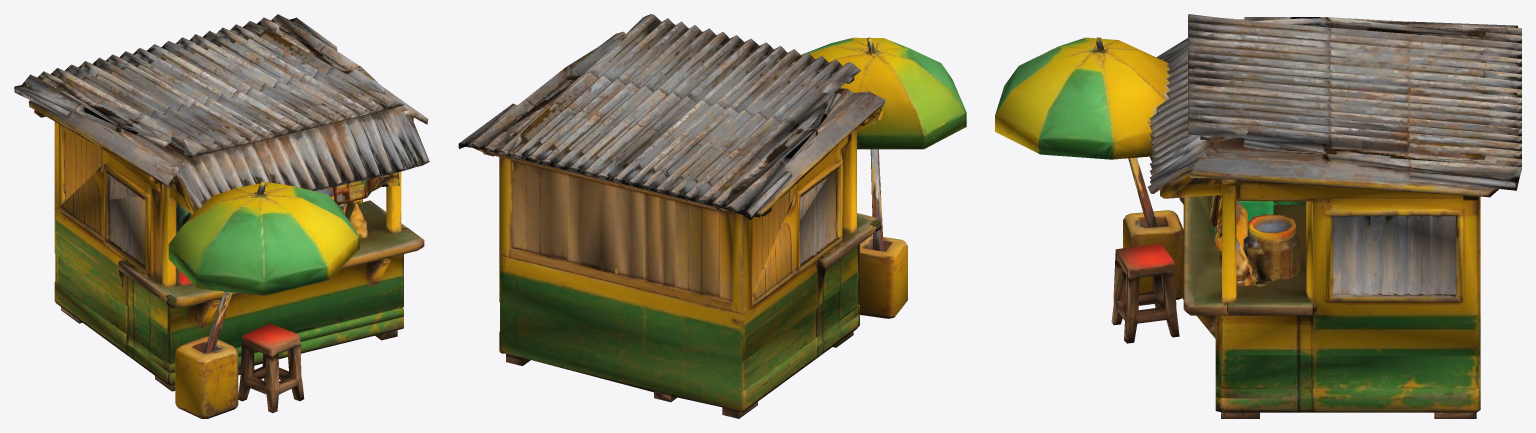
File: kiosk.glb
3 views of the same model, side by side, from view 1: azimuth 30°, elevation 25°; view 2: azimuth 150°, elevation 25°; view 3: azimuth 270°, elevation 25° (orthographic). The views are drawn at different scales.
Visible parts, largest first — view 1: tripo_node_8aa64ed6-d42b-4943-a4ed-41fc386a3ea4; view 2: tripo_node_8aa64ed6-d42b-4943-a4ed-41fc386a3ea4; view 3: tripo_node_8aa64ed6-d42b-4943-a4ed-41fc386a3ea4.
Boxes of the visible parts, bbox=[...] form: tripo_node_8aa64ed6-d42b-4943-a4ed-41fc386a3ea4: bbox=[14, 14, 429, 418]; tripo_node_8aa64ed6-d42b-4943-a4ed-41fc386a3ea4: bbox=[458, 14, 966, 418]; tripo_node_8aa64ed6-d42b-4943-a4ed-41fc386a3ea4: bbox=[995, 14, 1521, 418].
Size of the model in its own units: 0.7261 by 0.5851 by 0.9738.
1 material, 1 textured.
